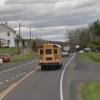Bus: (35, 42, 63, 74)
